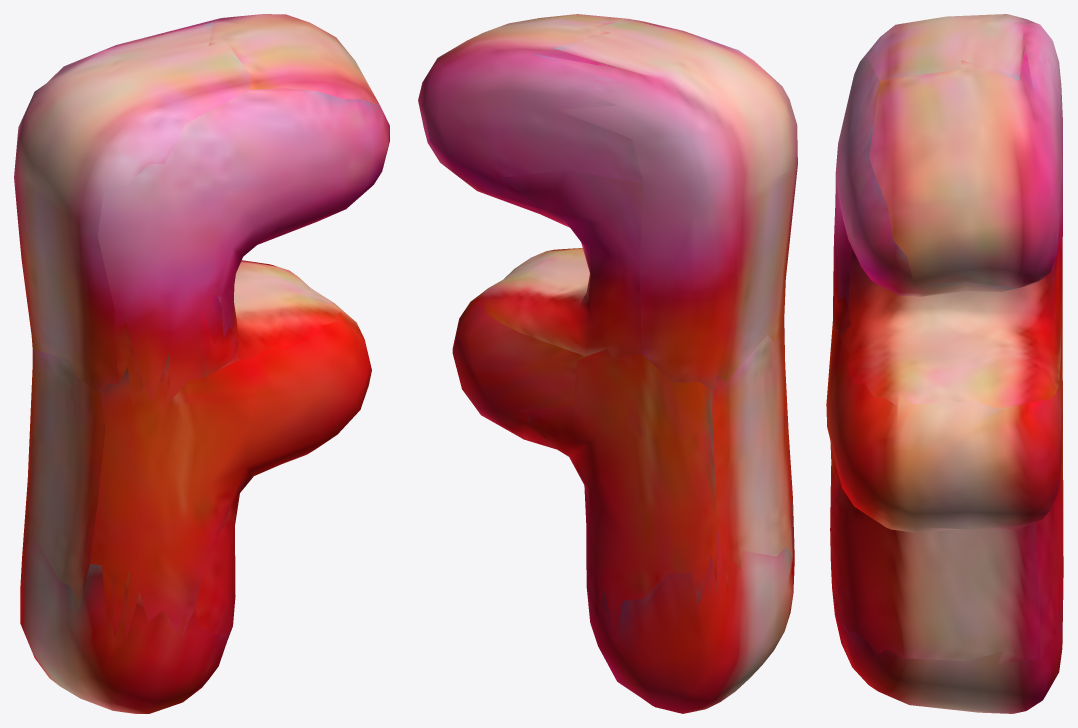
The picture shows the model from 3 angles, left to right: view 1: azimuth 30°, elevation 25°; view 2: azimuth 150°, elevation 25°; view 3: azimuth 270°, elevation 25°; orthographic projection. The views are drawn at different scales.
Visible parts, largest first — view 1: Candy-Letter-F; view 2: Candy-Letter-F; view 3: Candy-Letter-F.
Part boxes in pixels (x1,y1,x2,y2): Candy-Letter-F: [14, 14, 389, 713]; Candy-Letter-F: [418, 14, 797, 713]; Candy-Letter-F: [826, 14, 1063, 713].
Size of the model in its own units: 0.1853 by 0.3407 by 0.1057.
1 material, 1 textured.
